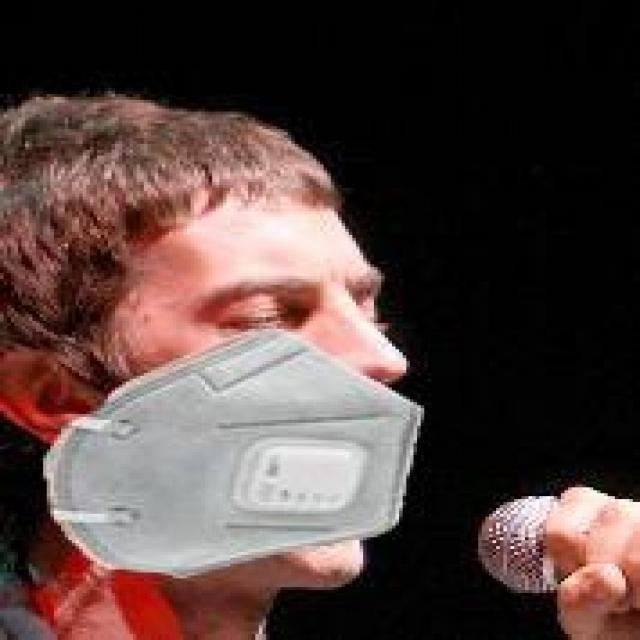mask: (39, 59, 486, 622)
